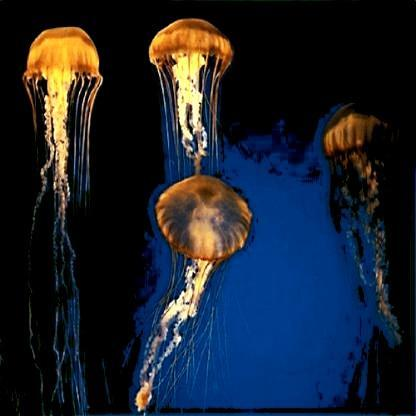Dressed: (132, 180, 254, 407), (322, 103, 406, 406), (24, 27, 103, 219), (150, 18, 238, 170)
